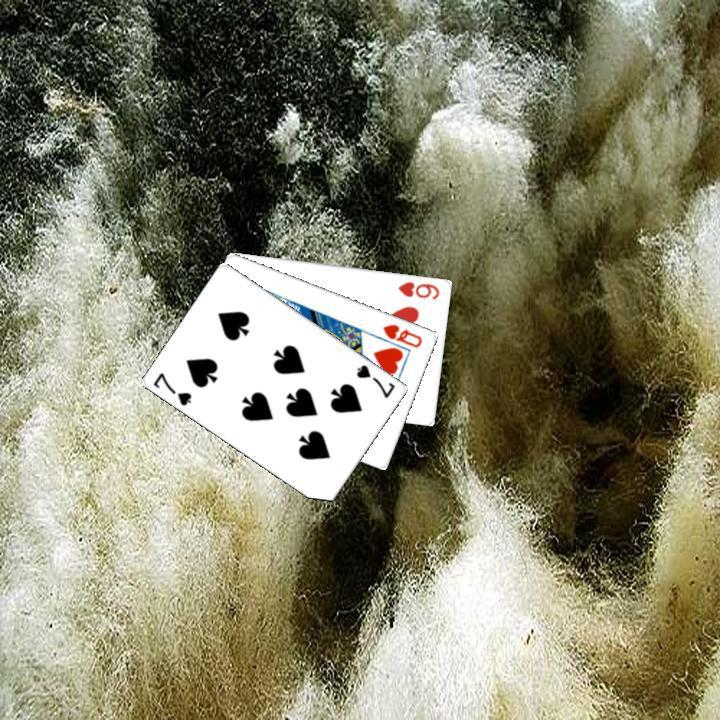6: (394, 277, 442, 301)
7: (352, 360, 398, 400), (149, 368, 194, 408)
Q: (379, 319, 425, 349)
